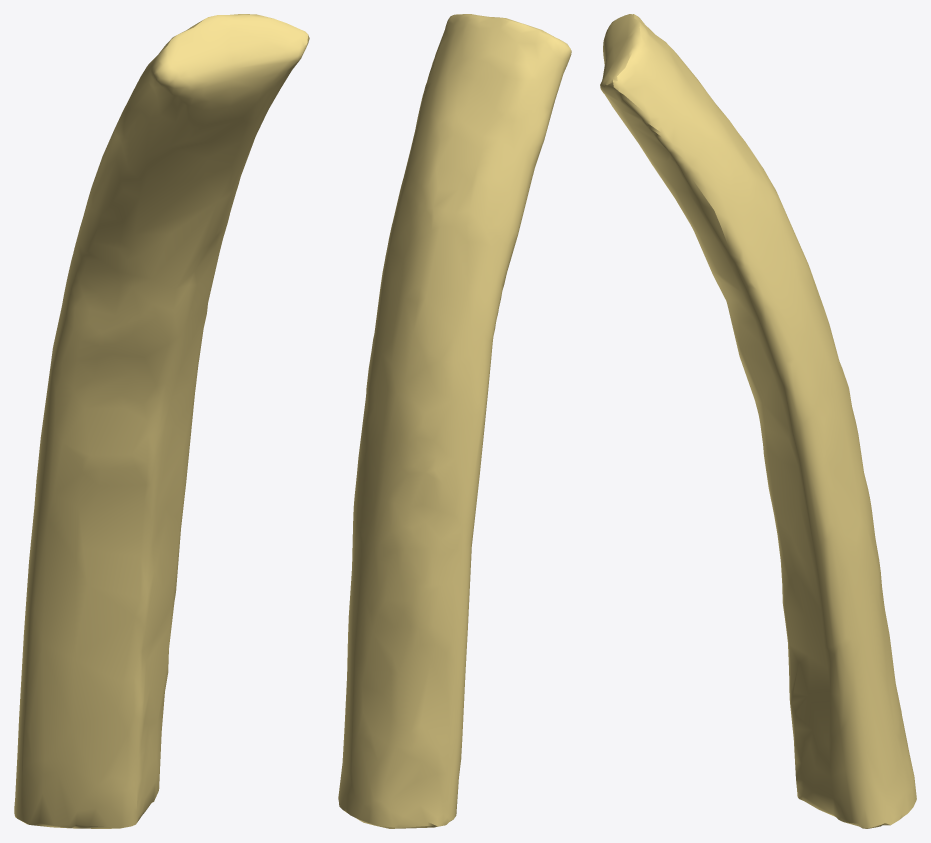
Rendered from fma78467.glb.
3 renders of one model, left to right at view 1: azimuth 30°, elevation 25°; view 2: azimuth 150°, elevation 25°; view 3: azimuth 270°, elevation 25°, orthographic. The views are drawn at different scales.
Visible parts, largest first — view 1: FMA78467; view 2: FMA78467; view 3: FMA78467.
Boxes of the visible parts, box(x1,y1,x2,y2) form: FMA78467: box(14, 14, 309, 828); FMA78467: box(338, 14, 571, 828); FMA78467: box(600, 14, 916, 828).
Size of the model in its own units: 0.00303 by 0.0167 by 0.00617.
